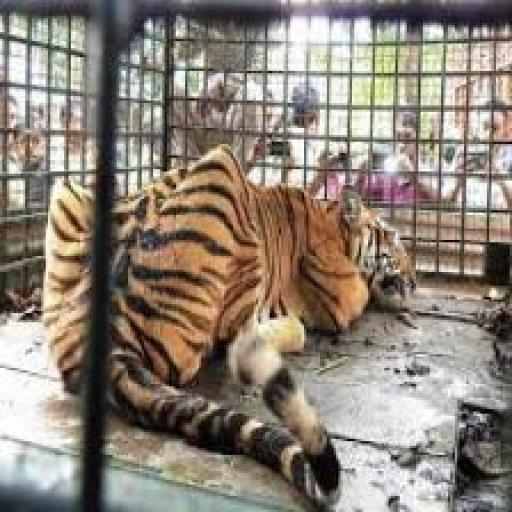Tiger: (41, 146, 417, 508)
